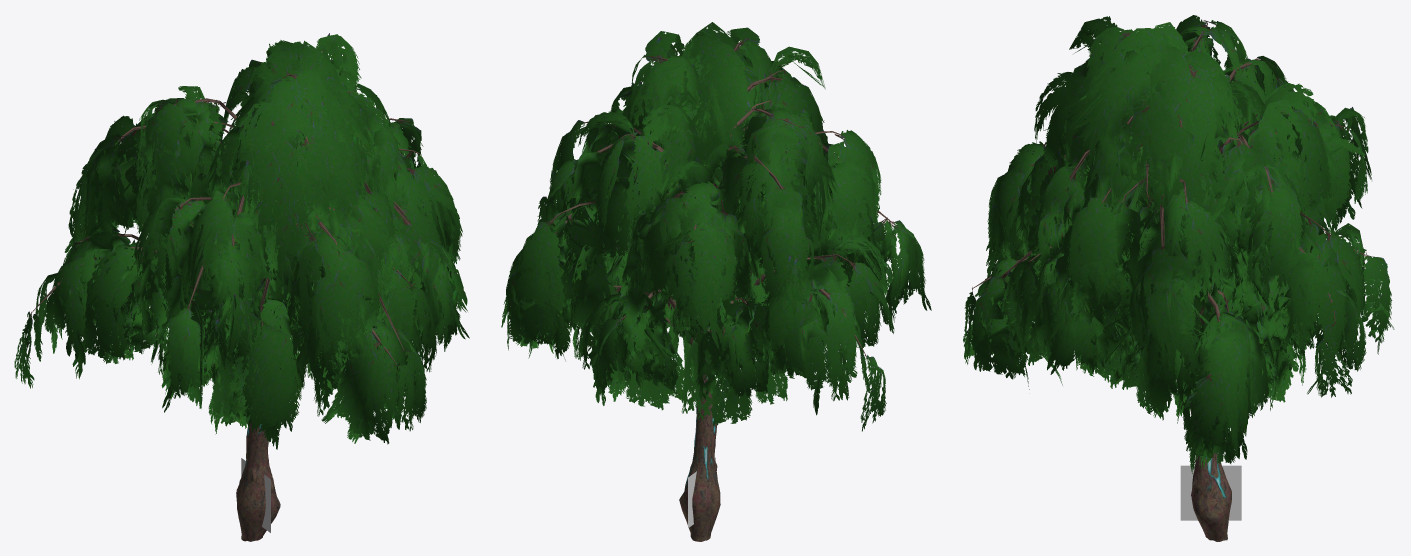
The picture shows the model from 3 angles, left to right: view 1: azimuth 30°, elevation 25°; view 2: azimuth 150°, elevation 25°; view 3: azimuth 270°, elevation 25°; orthographic projection. The views are drawn at different scales.
Visible parts, largest first — view 1: SM_MagicTree_01_LOD0; view 2: SM_MagicTree_01_LOD0; view 3: SM_MagicTree_01_LOD0.
Part boxes in pixels (x1,y1,x2,y2): SM_MagicTree_01_LOD0: (14, 33, 469, 541); SM_MagicTree_01_LOD0: (501, 22, 931, 541); SM_MagicTree_01_LOD0: (963, 15, 1394, 541).
Bounding box in the file's own units: 16.11 × 19.46 × 14.34.
5 materials, 2 textured.
